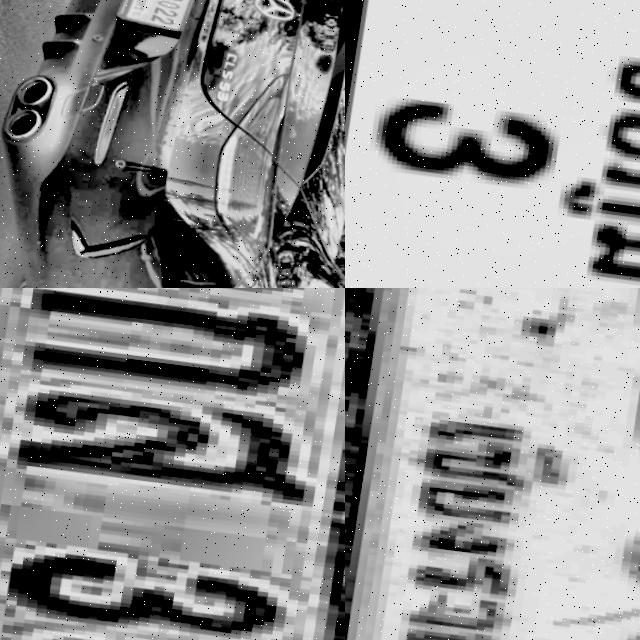license-plate: (0, 288, 345, 640), (345, 288, 640, 640), (345, 0, 640, 288), (114, 0, 205, 33)
